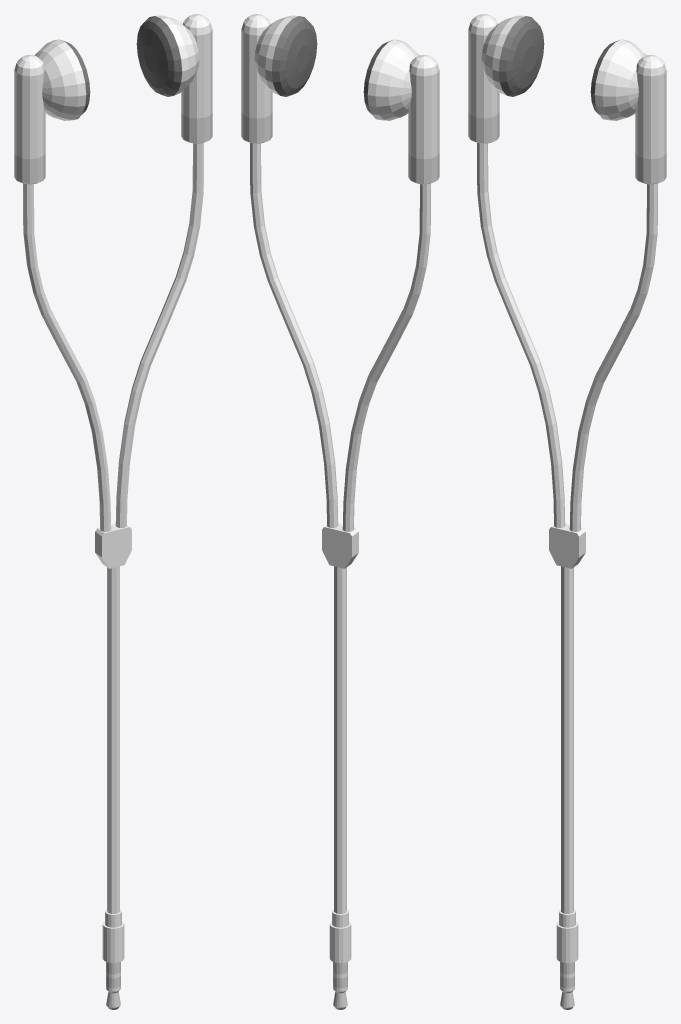
The picture shows the model from 3 angles, left to right: view 1: azimuth 30°, elevation 25°; view 2: azimuth 150°, elevation 25°; view 3: azimuth 330°, elevation 25°; orthographic projection.
Parts seen in each view (by area): view 1: Earbuds; view 2: Earbuds; view 3: Earbuds.
Part boxes in pixels (x1,y1,x2,y2): Earbuds: (14, 14, 212, 1009); Earbuds: (241, 14, 439, 1009); Earbuds: (468, 14, 666, 1009).
Bounding box in the file's own units: 31.8 × 153 × 11.81.
1 material, 1 textured.
